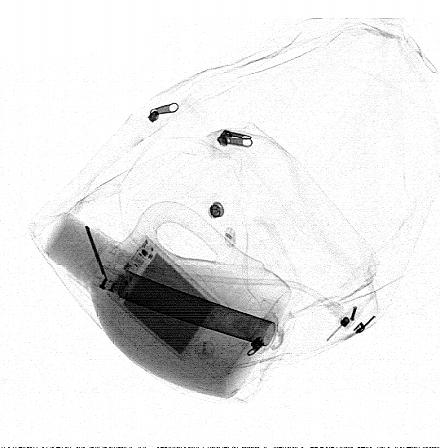Powerbank: (105, 235, 221, 361)
